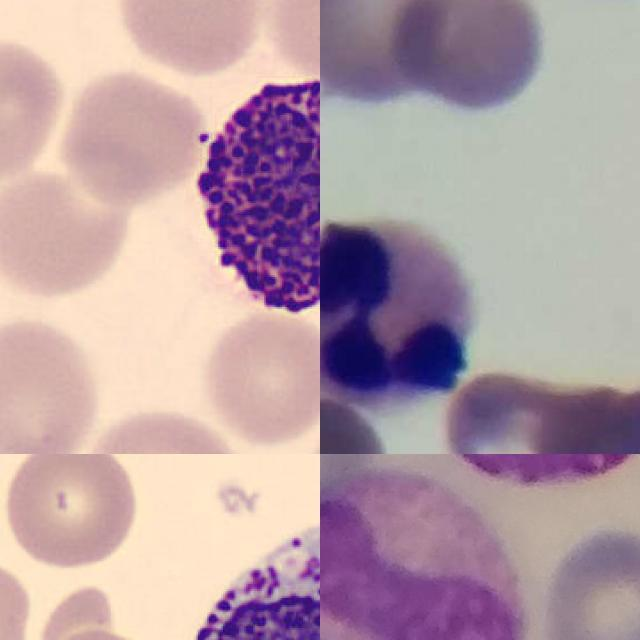Basophil: (173, 60, 320, 328), (168, 499, 320, 640)
Neutrophil: (320, 468, 529, 640), (320, 210, 474, 414)
RBC: (55, 64, 213, 208), (0, 160, 138, 301), (196, 307, 320, 450), (0, 454, 141, 571), (0, 310, 104, 454), (111, 0, 273, 77), (0, 28, 72, 186), (79, 400, 249, 454), (258, 0, 320, 86), (0, 550, 43, 640)
